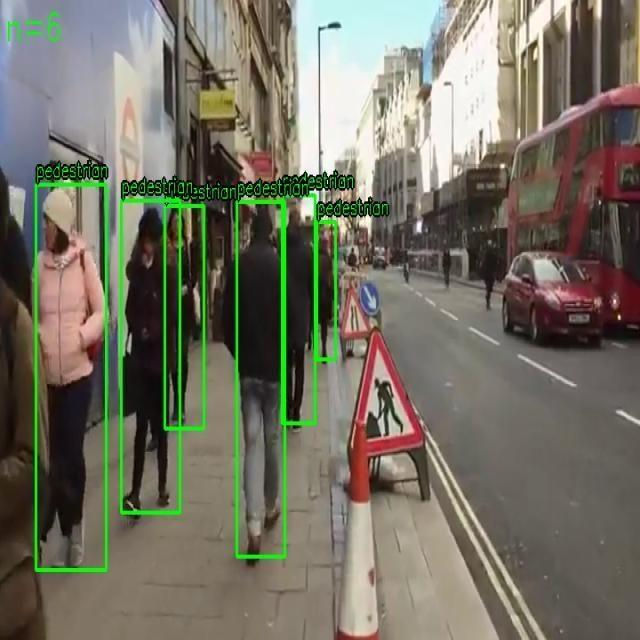person: (36, 184, 106, 571), (120, 200, 180, 514), (237, 202, 286, 558), (164, 206, 204, 430), (282, 194, 316, 424), (316, 221, 336, 360)
